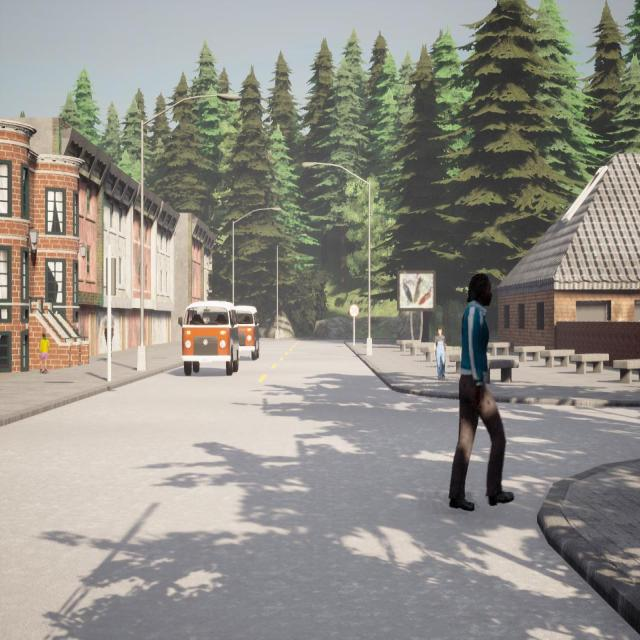Pedestrian: (449, 273, 513, 511), (433, 325, 447, 381), (101, 315, 114, 357), (39, 332, 50, 374)
Traffic_Signs: (349, 304, 359, 318)
Vehicle: (178, 301, 239, 375), (233, 306, 260, 360)
traffic_light: (106, 258, 116, 296)
